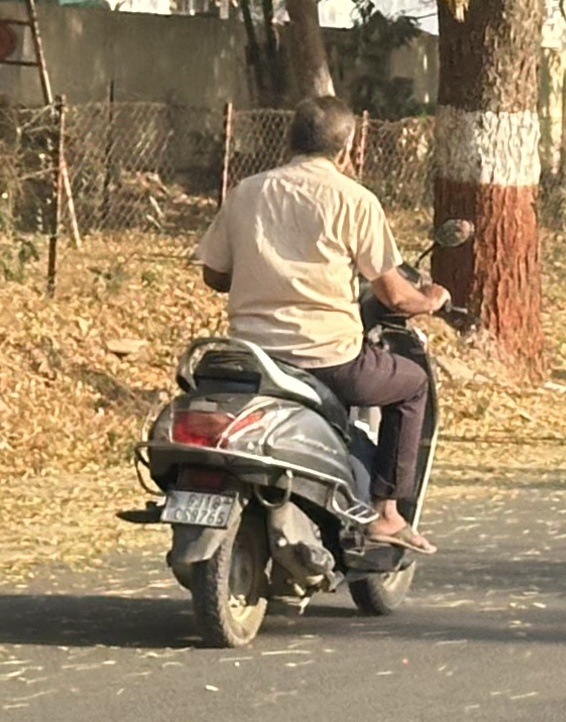BikeWithRider: (118, 93, 480, 646)
NoHelmet: (282, 92, 354, 174)
